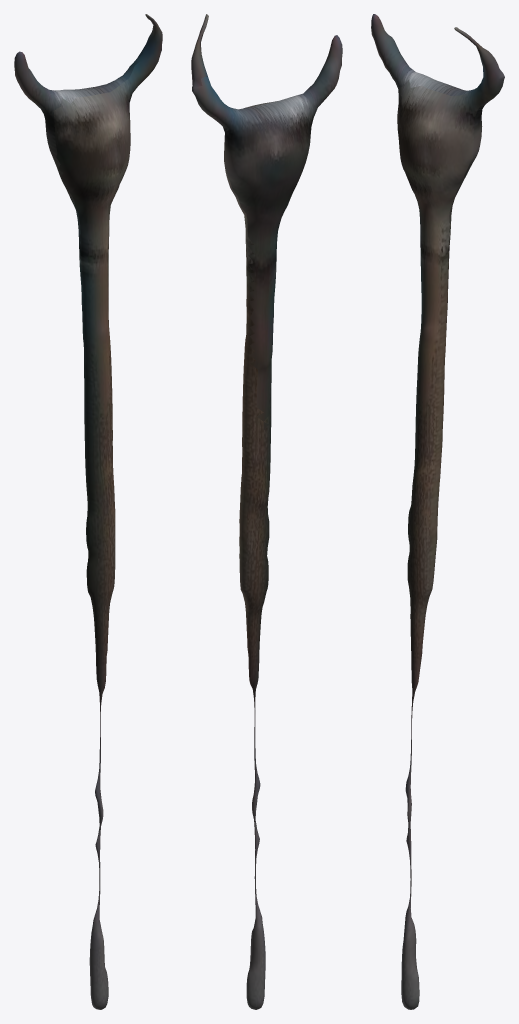
The model's file is kfl-2202.glb.
The picture shows the model from 3 angles, left to right: view 1: azimuth 30°, elevation 25°; view 2: azimuth 210°, elevation 25°; view 3: azimuth 330°, elevation 25°; orthographic projection. The views are drawn at different scales.
Visible parts, largest first — view 1: geometry_0; view 2: geometry_0; view 3: geometry_0.
Part boxes in pixels (left/top/right/bottom): geometry_0: left=14, top=14, right=162, bottom=1009; geometry_0: left=191, top=14, right=342, bottom=1009; geometry_0: left=371, top=14, right=504, bottom=1009.
Bounding box in the file's own units: 0.1452 × 0.9843 × 0.0761.
Materials: 1 (1 with a texture image).
